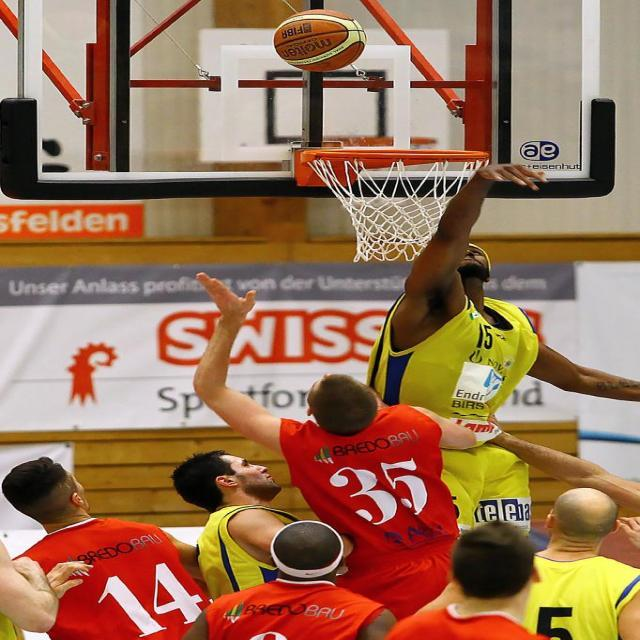rim: (271, 9, 368, 72)
